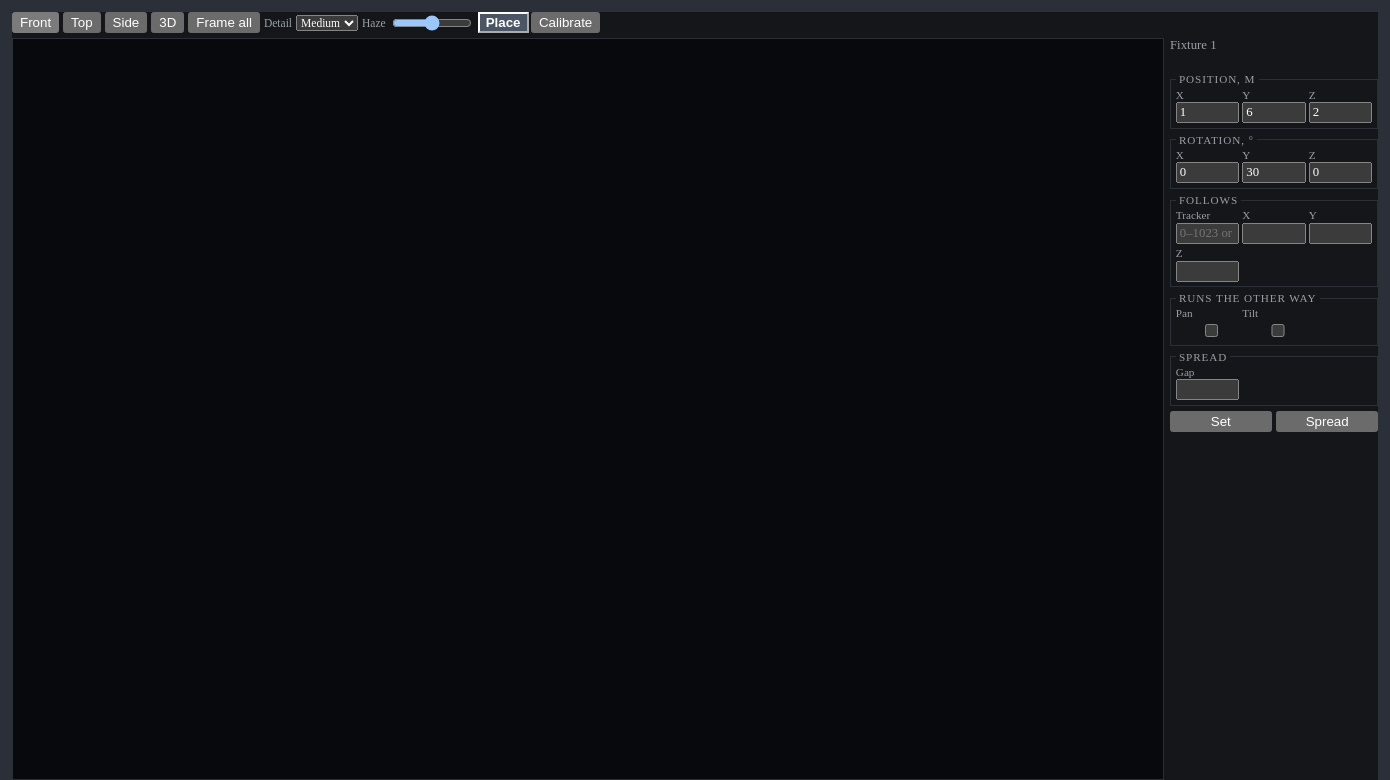
Scenario: taking a sighting › files the pan and tilt the programmer holds under the mark
Step 1. Click the button with test id "viewer-panel-calibrate" → (566, 22), box top-left (531, 12), bottom-right (600, 33)
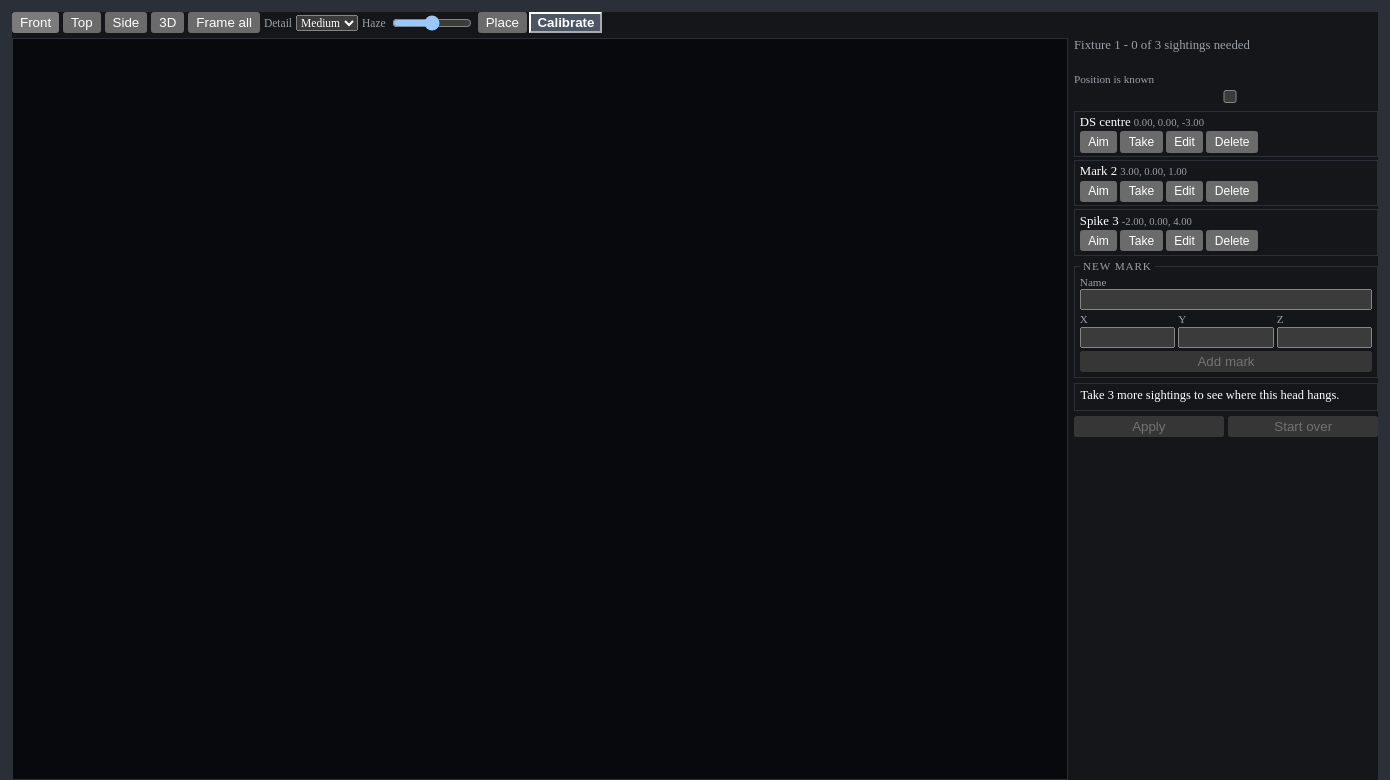
Step 2. Click the button with test id "calibration-take-1" → (1141, 142), box top-left (1120, 132), bottom-right (1162, 153)
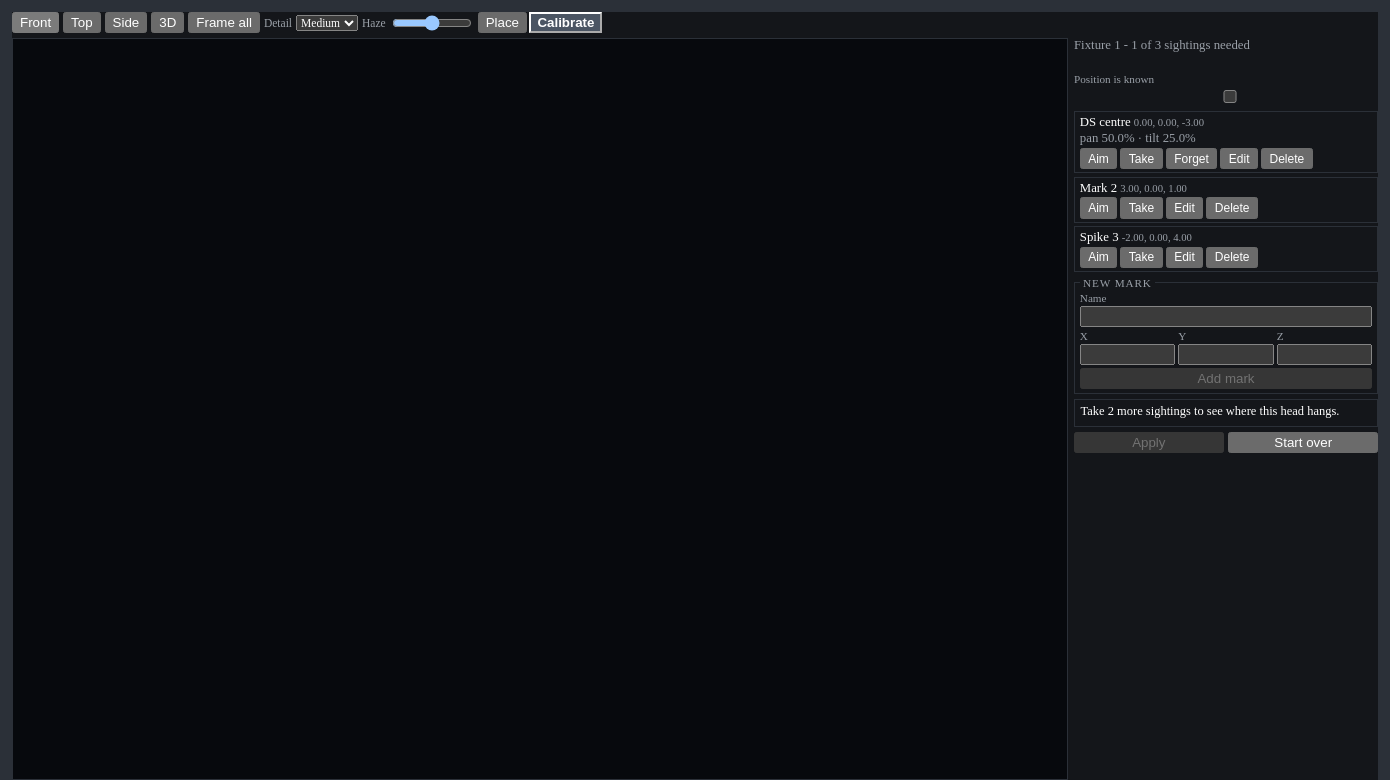
Check: the text with test id "calibration-sighting-1" shows "pan 50.0%", box top-left (1080, 132), bottom-right (1196, 146)
Check: the text with test id "calibration-sighting-1" shows "tilt 25.0%", box top-left (1080, 132), bottom-right (1196, 146)
Check: the text with test id "calibration-target" shows "1 of 3", box top-left (1074, 38), bottom-right (1250, 52)
